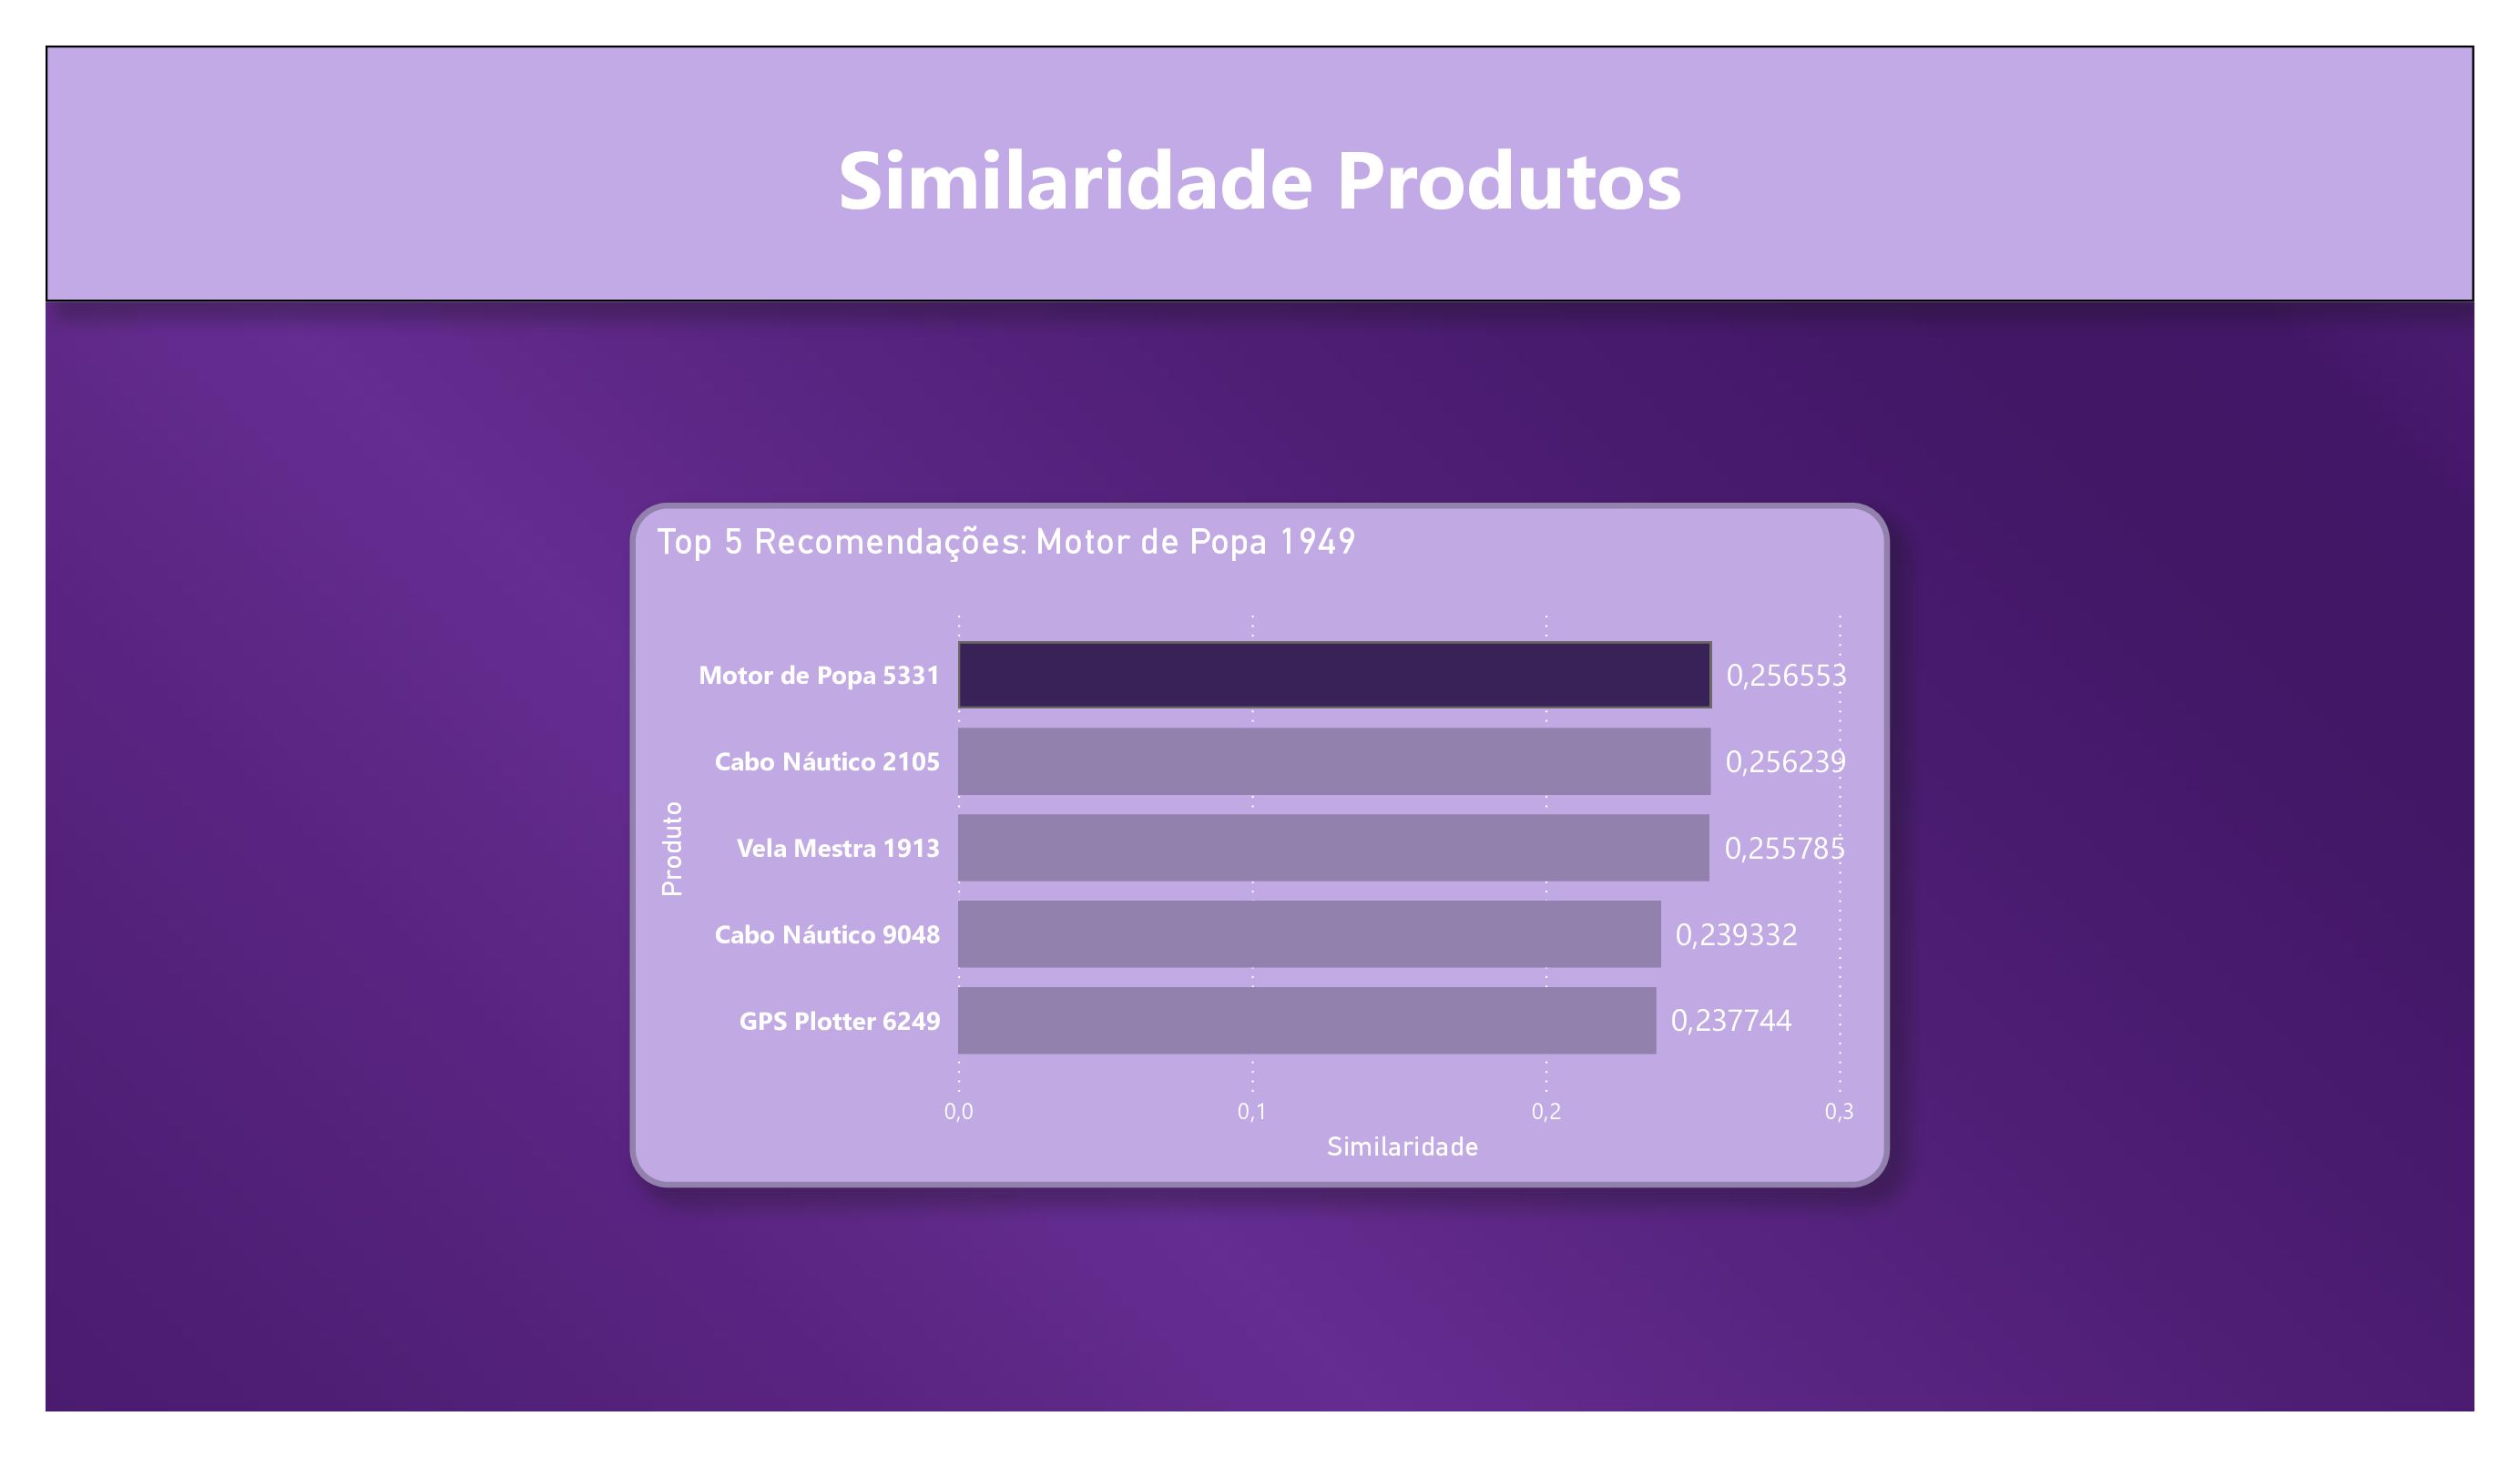

The page's visual inventory and layout, read from the dashboard file:
{"tool":"powerbi","page":{"name":"Página 5","canvas":[1280,720],"ordinal":4},"visuals":[{"type":"textbox","box":[0,0,1279.7,135.2],"z":0},{"type":"clusteredBarChart","title":"Top 5 Recomendações: Motor de Popa 1949","fields":{"Category":["resultado.name"],"Y":["Sum(resultado.similaridade)"]},"box":[308.1,240.9,663.6,360.9],"z":1000}]}

Visuals, with their boxes on the page's 1280x720 design canvas (x1, y1, x2, y2). These are canvas units, not pixel positions in the 2520x1457 screenshot, which may show the page scaled, cropped or inside an application window:
textbox: 0 0 1280 135
"Top 5 Recomendações: Motor de Popa 1949" clusteredBarChart: 308 241 972 602
